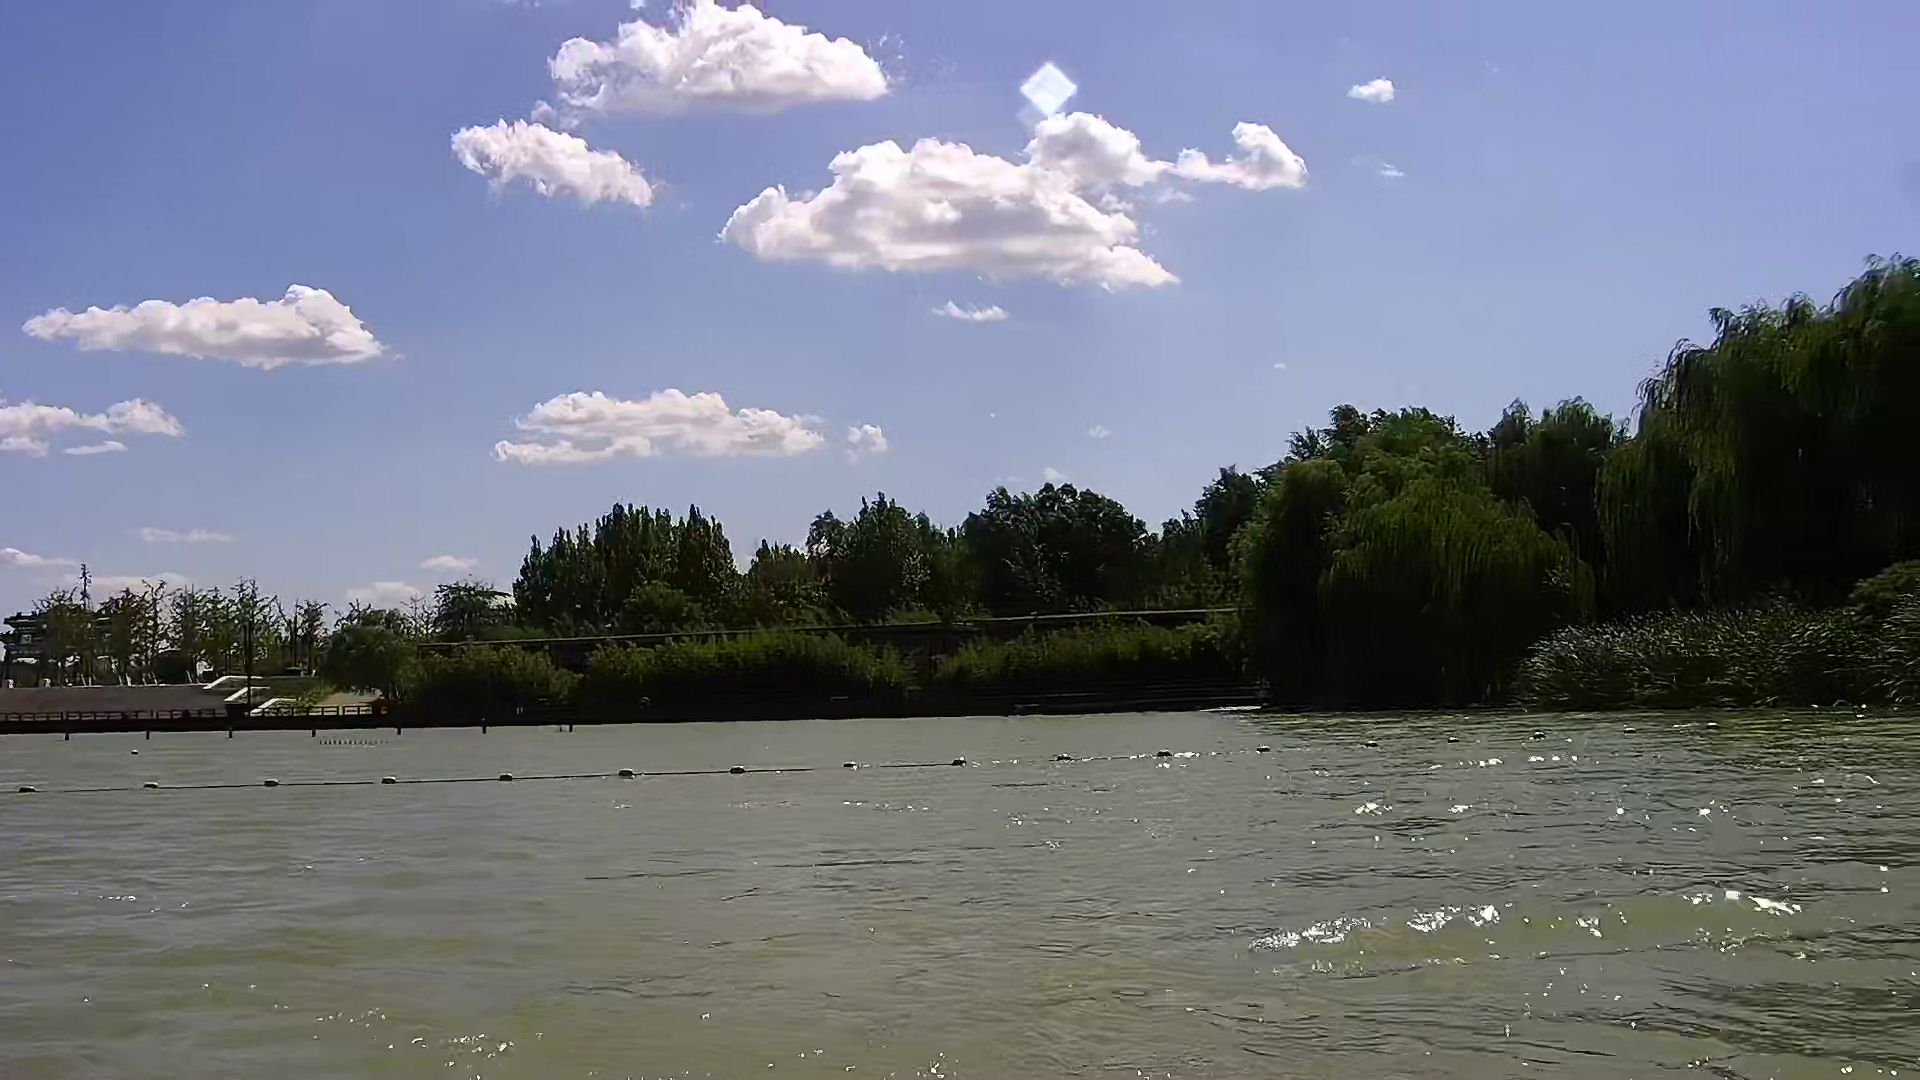ball: (607, 758, 644, 789), (723, 756, 761, 785), (1145, 738, 1182, 767), (488, 764, 529, 789), (248, 771, 287, 795), (367, 771, 409, 791), (15, 773, 40, 802), (948, 748, 972, 773), (140, 778, 162, 798), (839, 758, 858, 775), (1058, 746, 1069, 767)
harbor: (1, 688, 388, 736)
